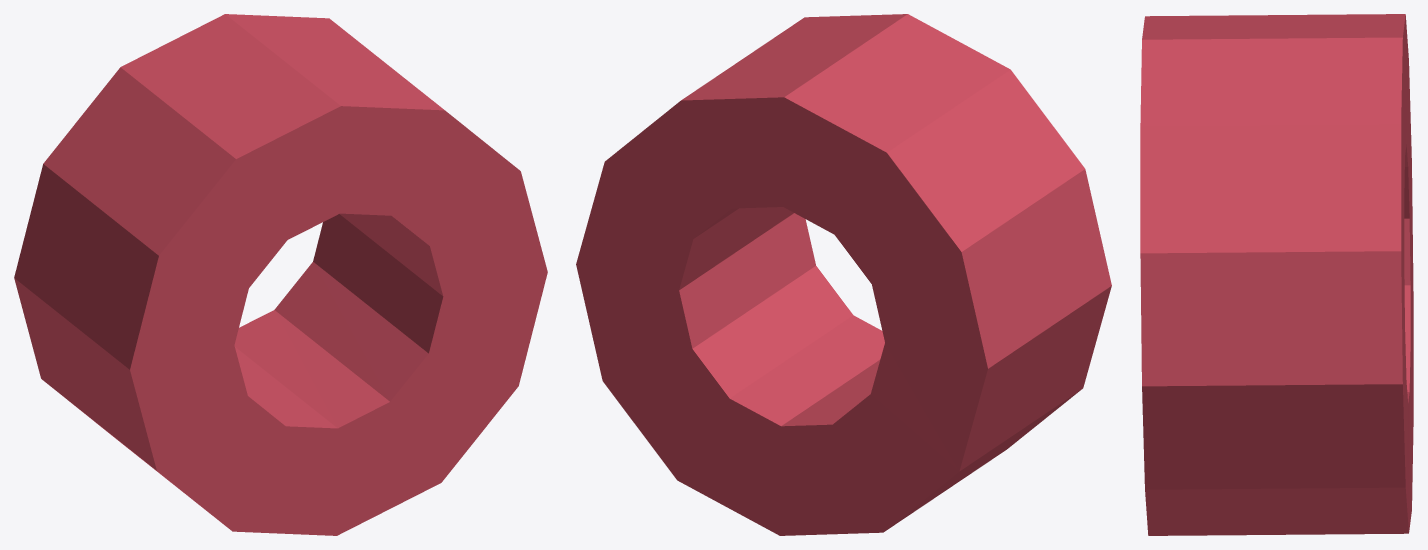
Rendered from wheel2.glb.
The picture shows the model from 3 angles, left to right: view 1: azimuth 30°, elevation 25°; view 2: azimuth 150°, elevation 25°; view 3: azimuth 270°, elevation 25°; orthographic projection. The views are drawn at different scales.
Visible parts, largest first — view 1: Mesh_Mesh_head_geo.001_lambert2SG.001; view 2: Mesh_Mesh_head_geo.001_lambert2SG.001; view 3: Mesh_Mesh_head_geo.001_lambert2SG.001.
Part boxes in pixels (x1=…): Mesh_Mesh_head_geo.001_lambert2SG.001: x1=14, y1=14, x2=547, y2=535; Mesh_Mesh_head_geo.001_lambert2SG.001: x1=576, y1=14, x2=1111, y2=535; Mesh_Mesh_head_geo.001_lambert2SG.001: x1=1140, y1=14, x2=1413, y2=535.
Bounding box in the file's own units: 4.03 × 4.03 × 2.09.
